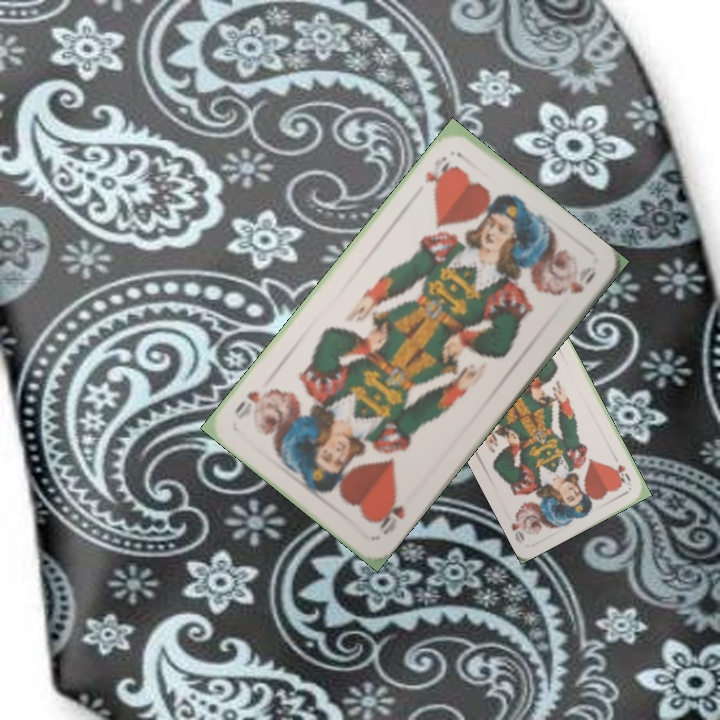HO: (372, 495, 408, 538), (421, 152, 455, 194), (611, 460, 633, 486)
